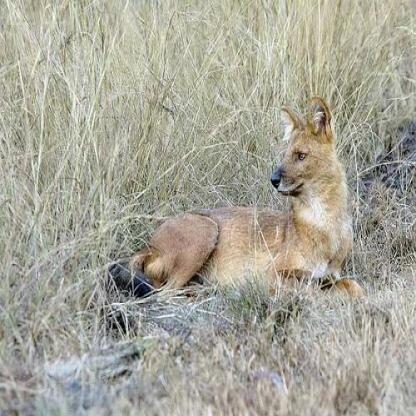dhole: (96, 93, 368, 331)
